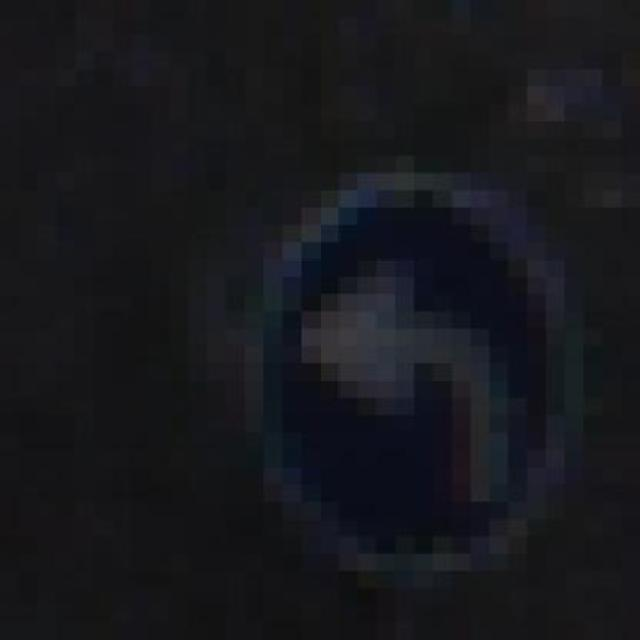Turn left ahead: (207, 156, 602, 606)
